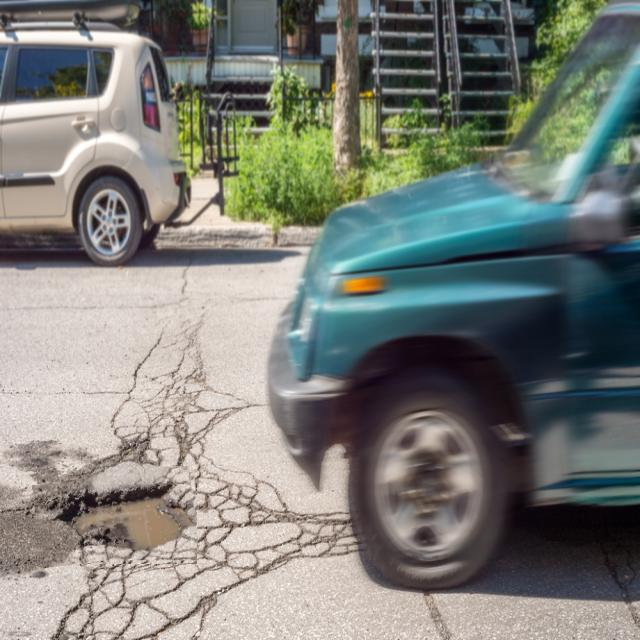Pothole: (35, 470, 197, 564)
